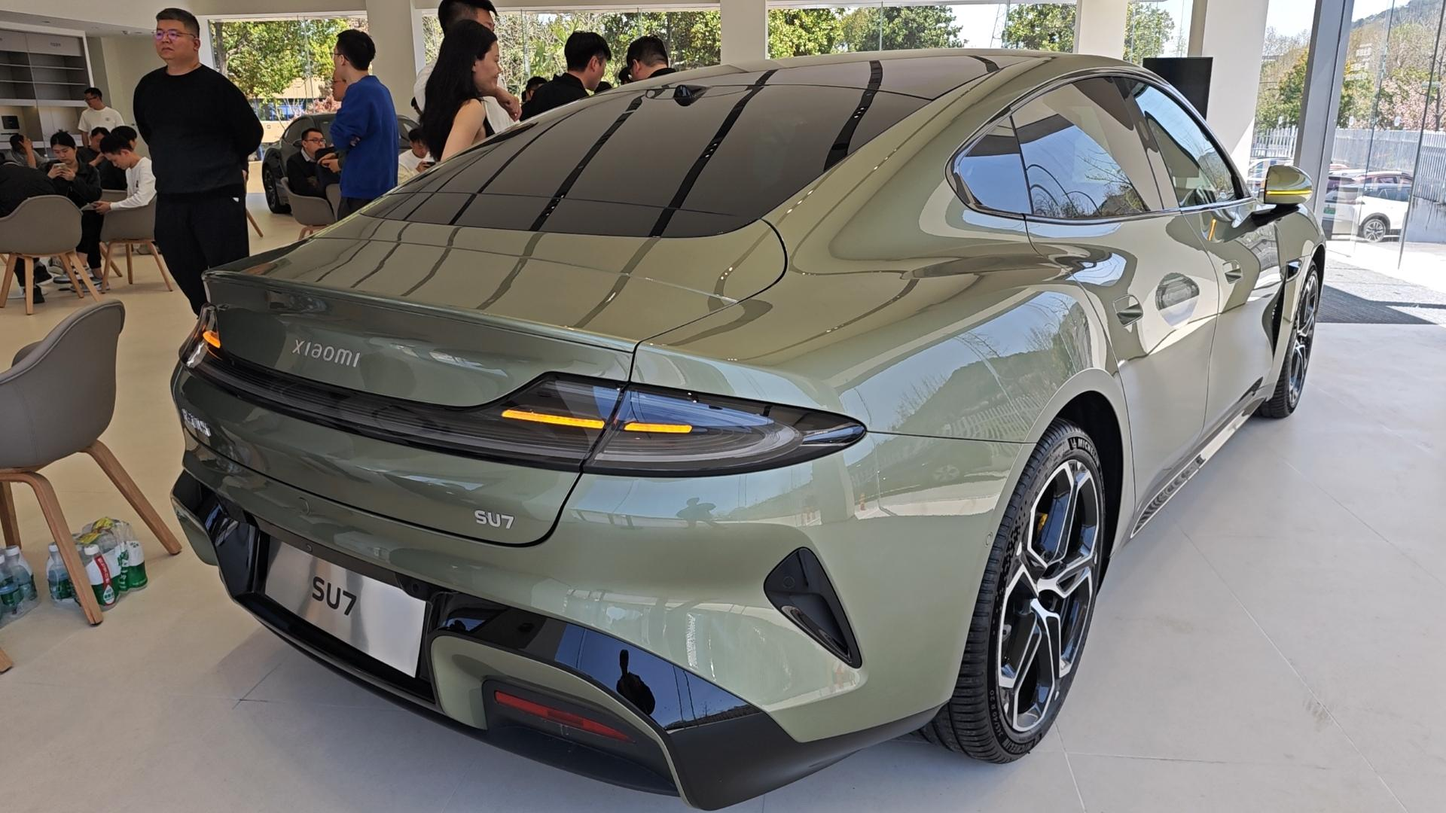other: (1320, 178, 1430, 242)
su7: (190, 49, 1329, 804)
